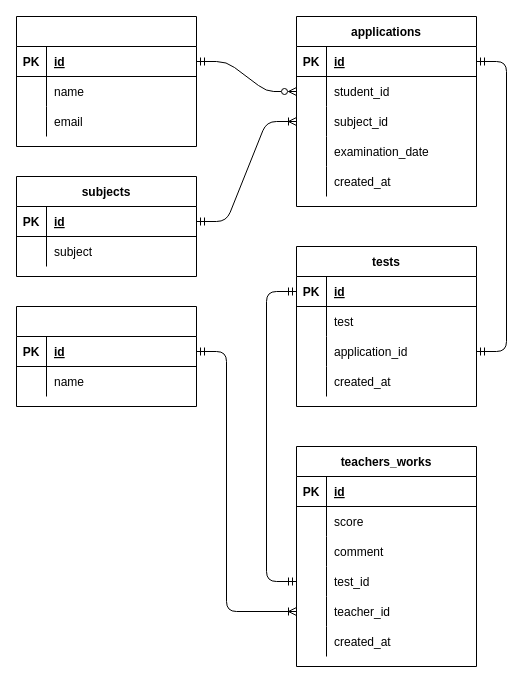
Image size: 523x683. Some labels were removed from this diagram. The shapes that lost their labels are listed below. From the top down, each one's box as (x1, y1, x2, y2) in pixels, then its label:
(16, 16, 196, 146): students
(16, 306, 196, 406): teachers
